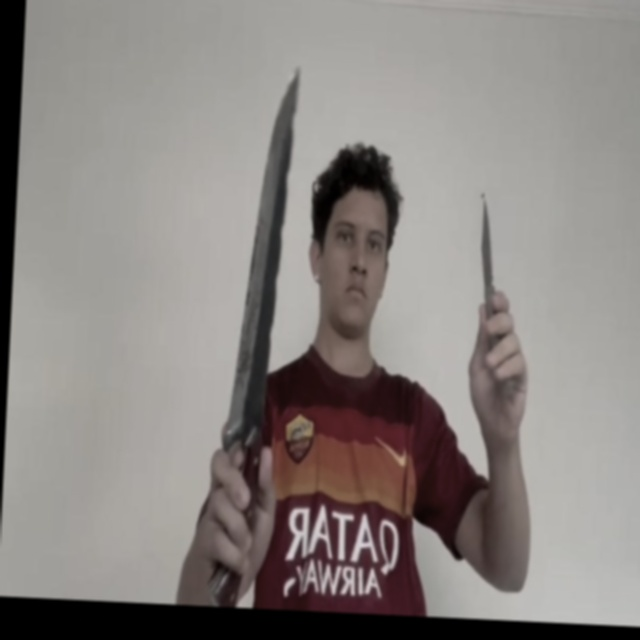Sharp-Object: (226, 64, 302, 442), (479, 200, 497, 282)
